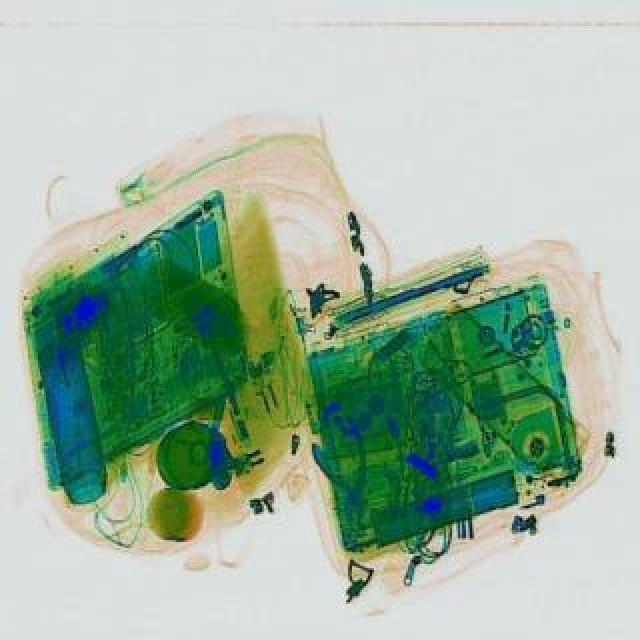wrench: (308, 430, 384, 530)
